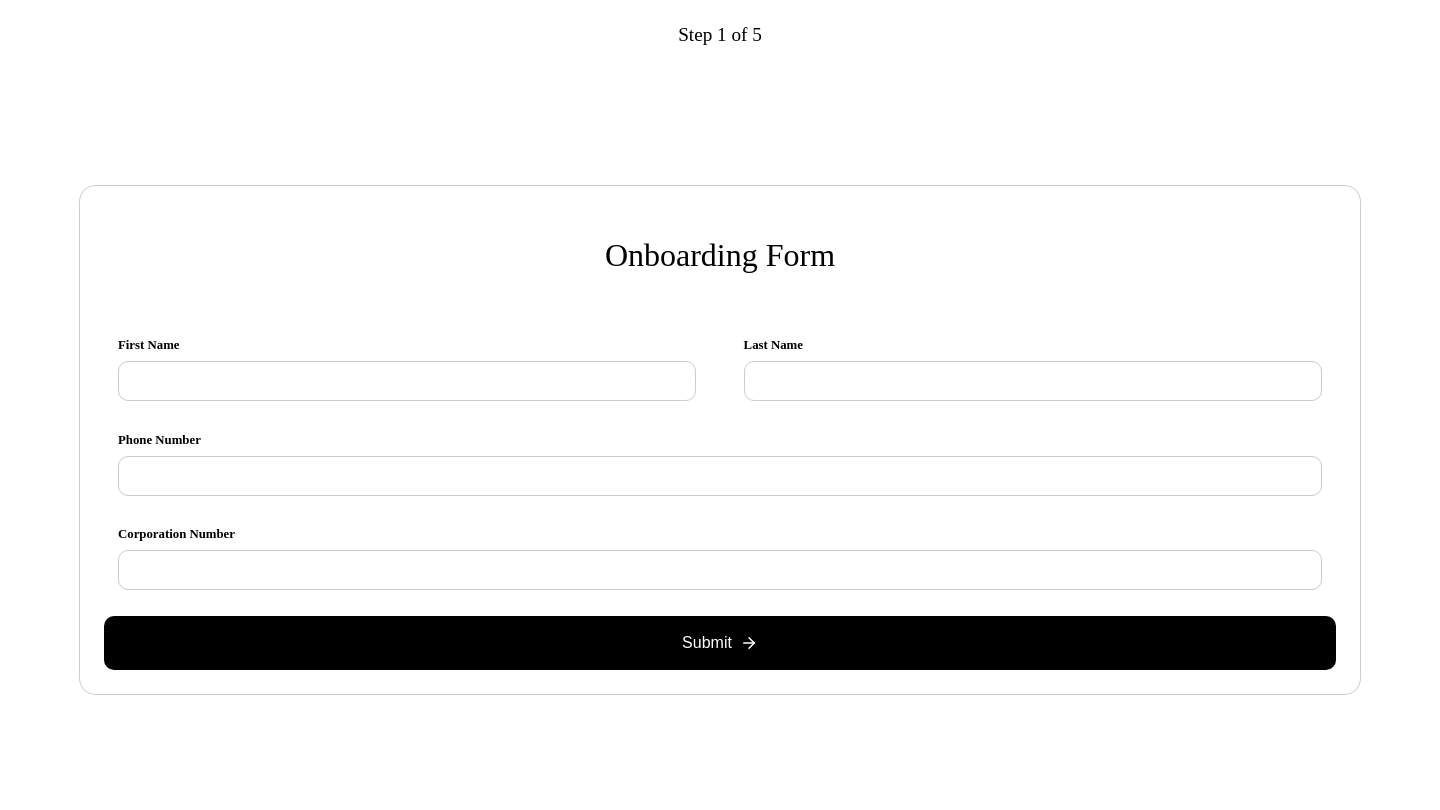
Test: OnboardingForm › displays long name error message when submitting form
The width and height of the screenshot is (1440, 810).
In the field labelled "First Name": point(407, 381) [118,361,696,401], type "This is a very long name that will fail validation!!"
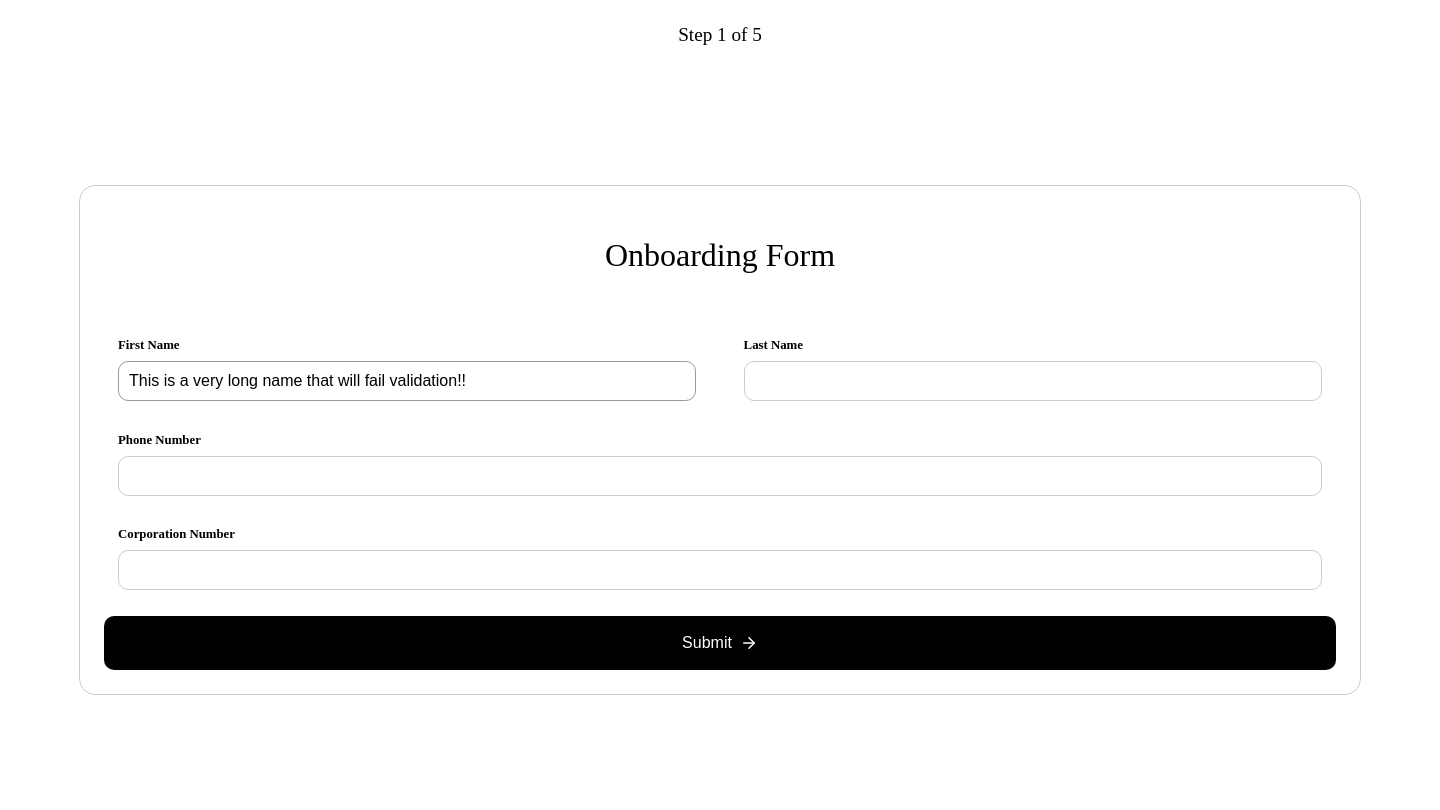
In the field labelled "Last Name": point(1033, 381) [744,361,1322,401], type "This is a very long name that will fail validation!!"
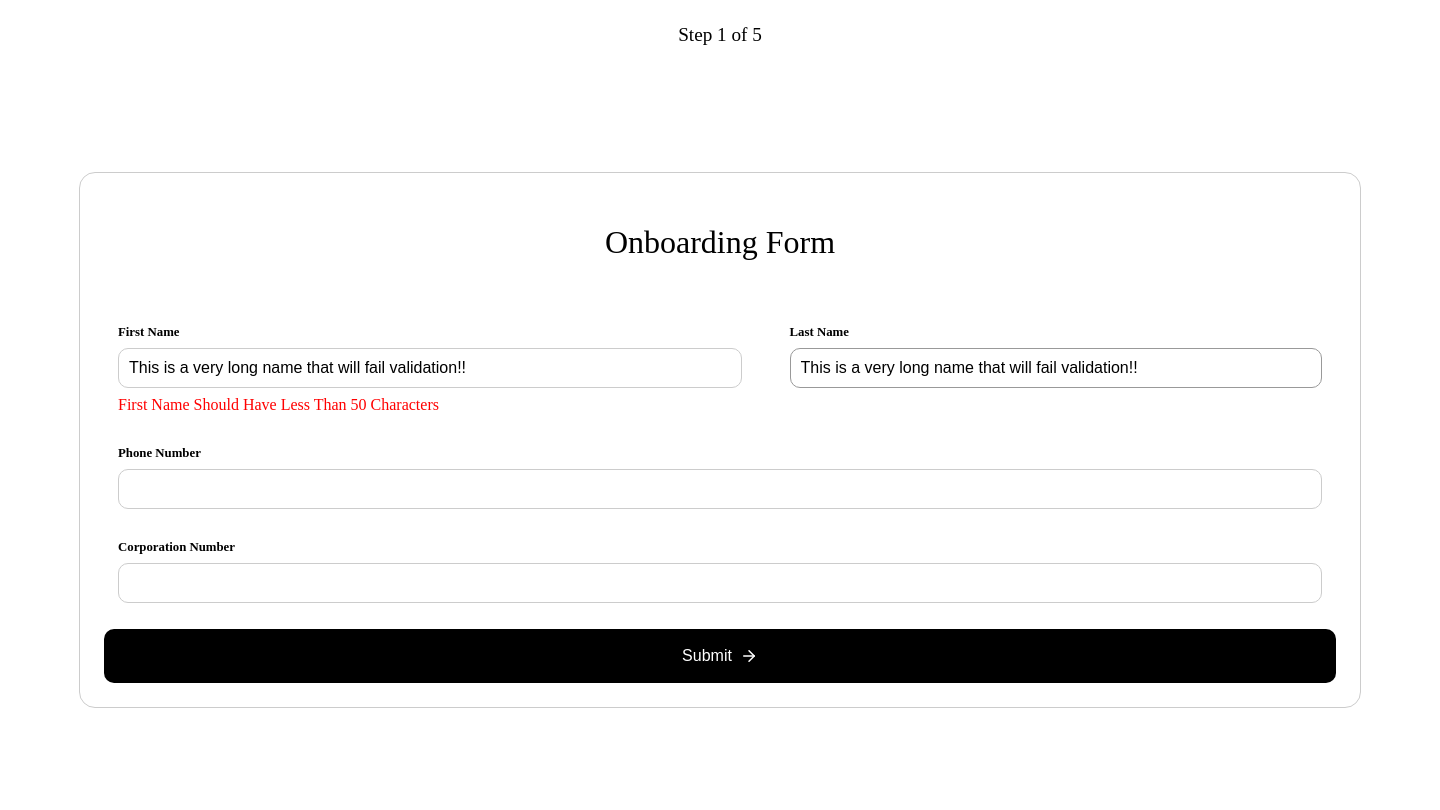
Click the button "Submit": point(720, 656) [104,629,1336,682]
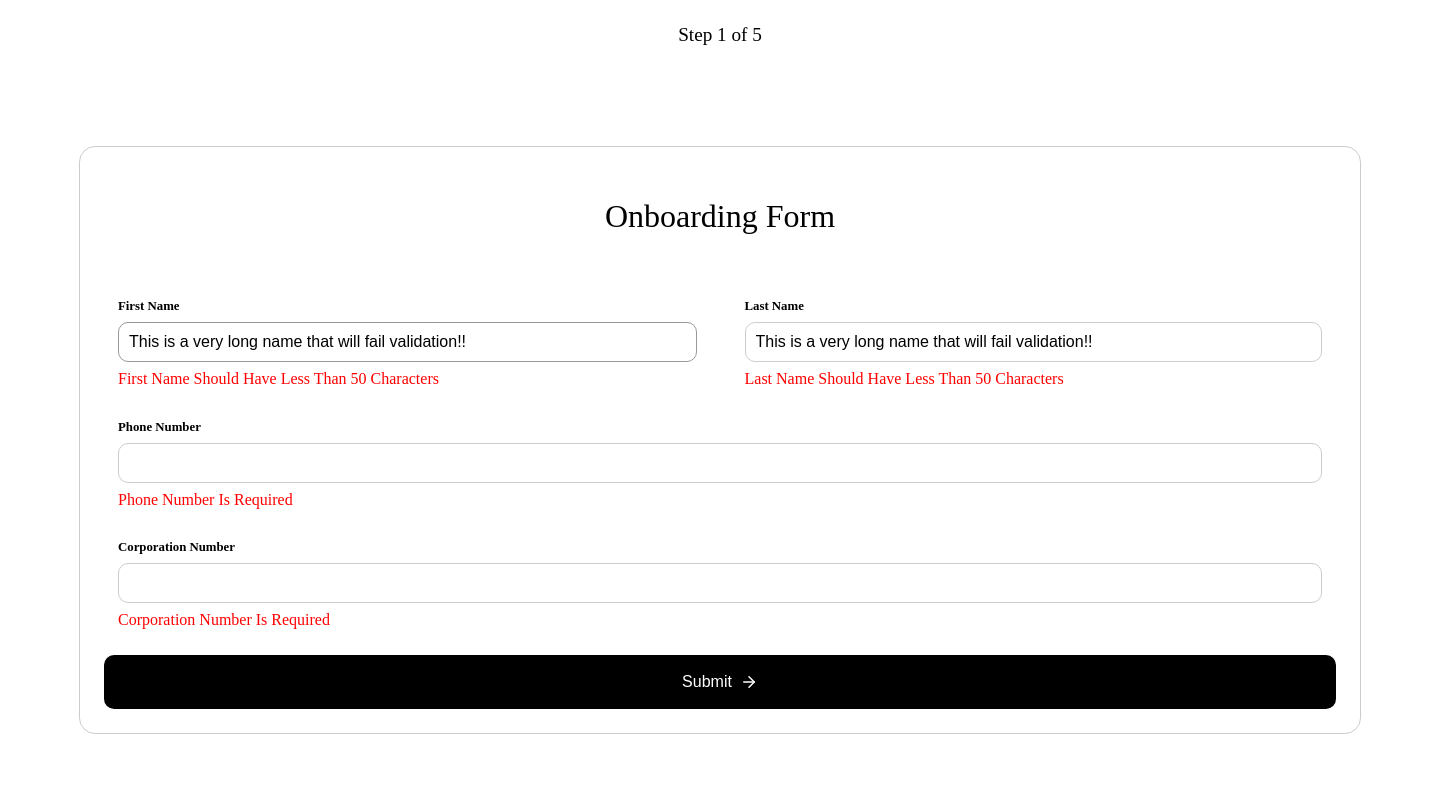
Now the text "First Name should have less than 50 characters" is shown, box [118,370,439,387]
Now the text "Last Name should have less than 50 characters" is shown, box [744,370,1064,387]
